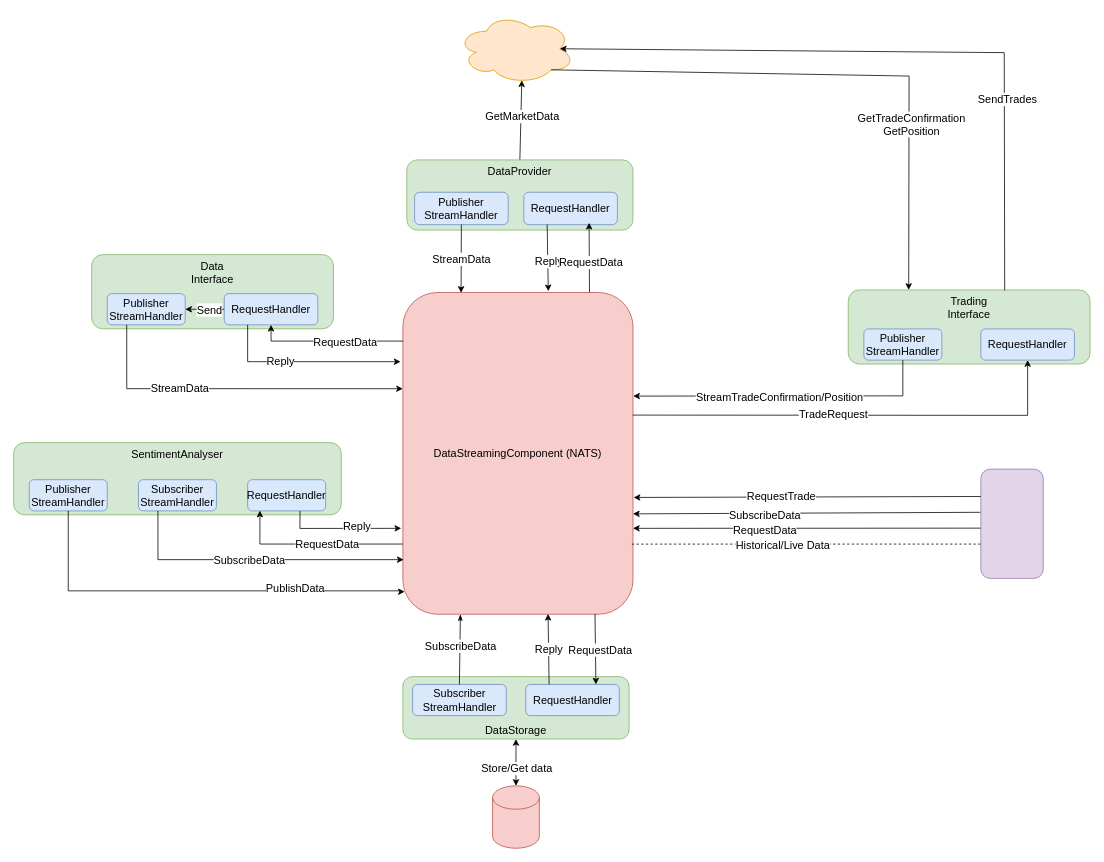
Image size: 1104x862. Some labels were removed from this diagram. The shapes that lost their labels are listed below. From the top down, each one's centre as x and y in pixels, then its label:
At point (515, 48): "DataSource (e.g. Alpaca.markets)".
At point (1011, 523): "Trading Strategy 1".
At point (515, 816): "DB".
